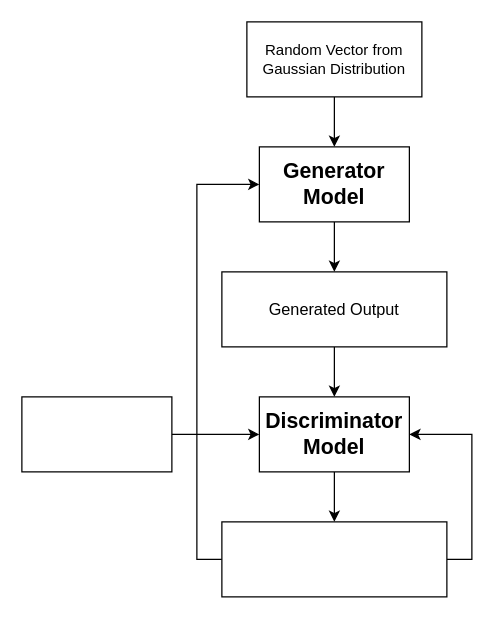
This 504x619 diagram has some shape labels left out. The box of each missing label's shape, as (x1, y1, x2, y2) in pixels:
Prediction: (221, 521, 447, 597)
Real Data: (21, 396, 172, 472)
